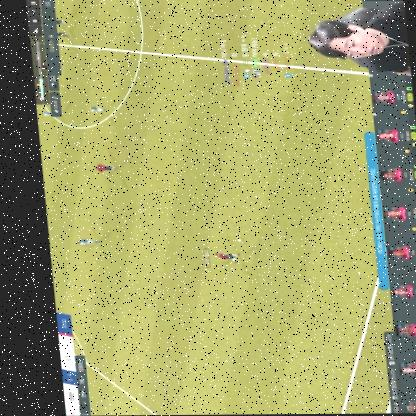streamer: (303, 1, 409, 78)
